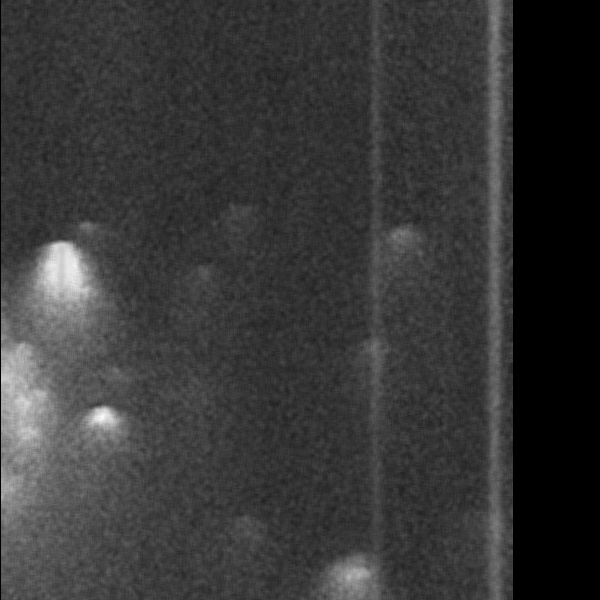spark: (46, 61, 102, 92), (1, 278, 49, 314), (27, 476, 75, 511)
